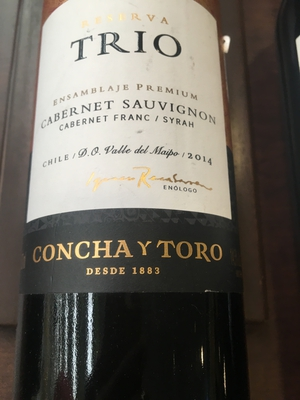trio cabernet sauvignon: (24, 6, 260, 400)
